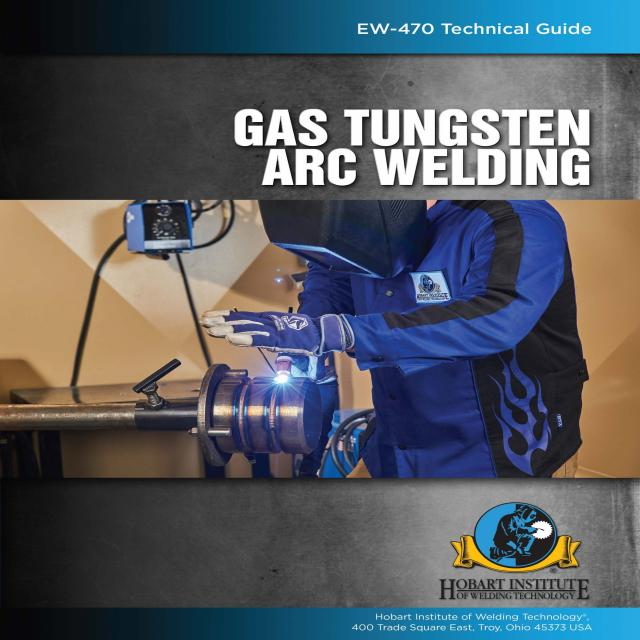welding: (271, 371, 294, 390)
